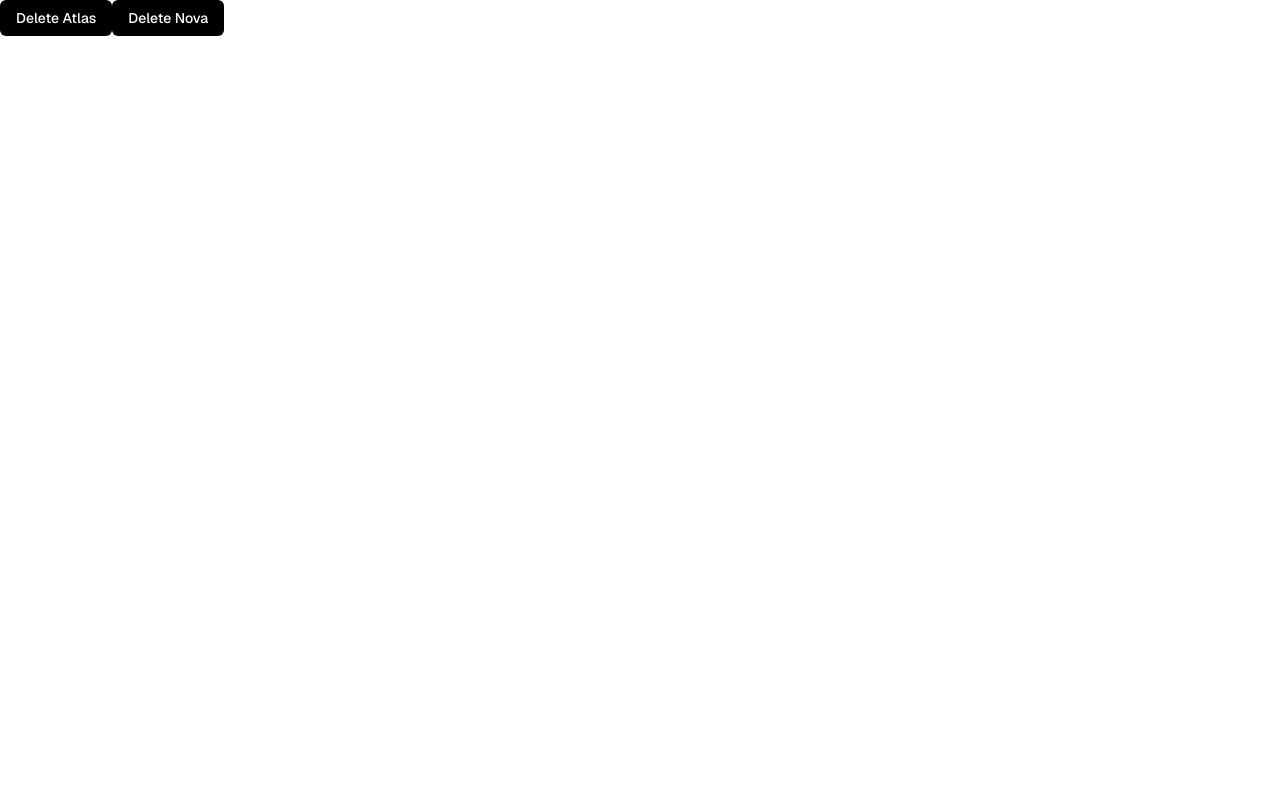
Test: AlertDialog › renders payload content from multiple triggers
Click the button "Delete Nova" at (168, 18), box 112,0 -> 224,36
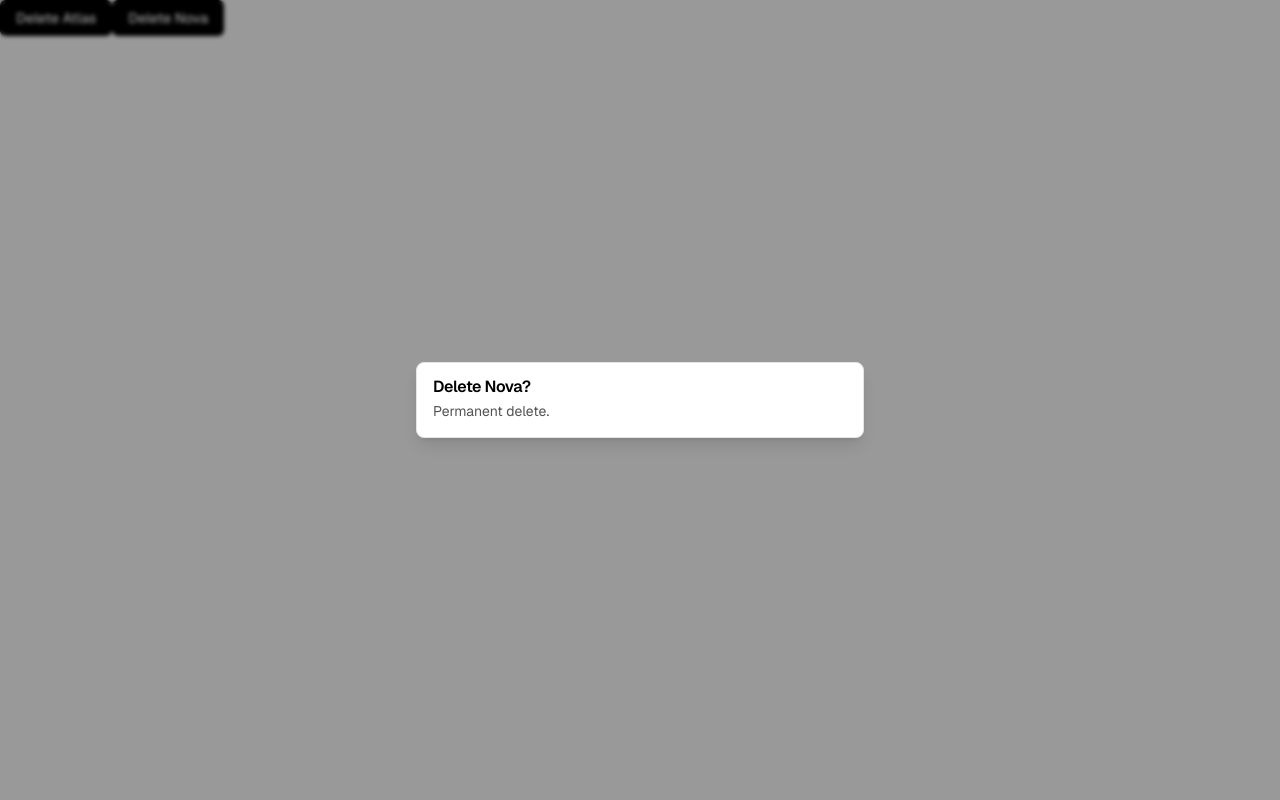
Check: the dialog is shown, box 416,362 -> 864,438
Check: the heading "Delete Nova?" is shown, box 433,376 -> 531,397
